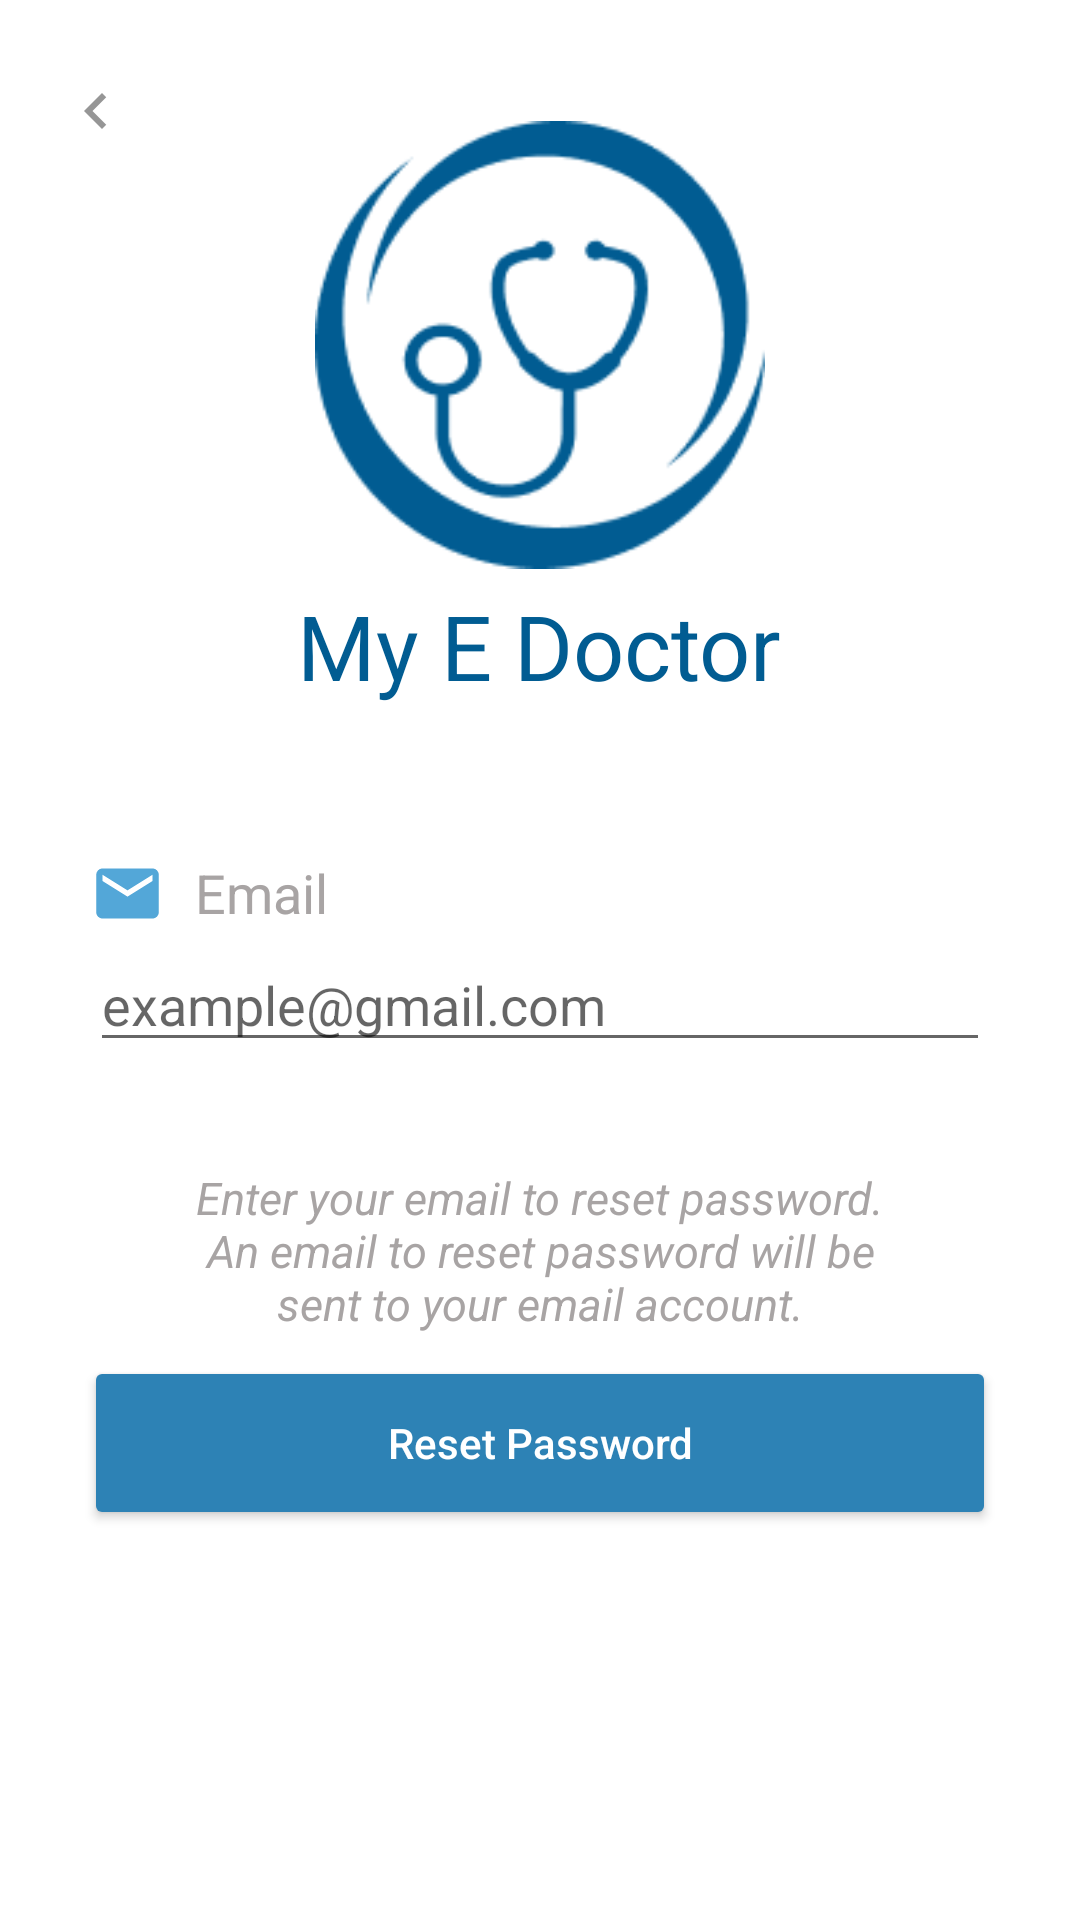

Named icons in this screenshot (1080×1920) and their centers, [x,y]:
back: [95,111]
